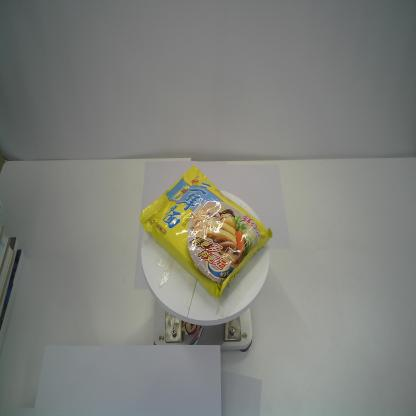Instant Noodles: (139, 163, 274, 301)
